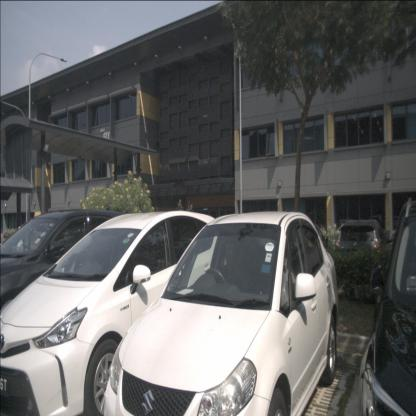vehicle-car: (102, 211, 338, 416), (0, 210, 228, 415), (0, 210, 164, 363), (359, 198, 416, 416), (335, 218, 387, 282)
